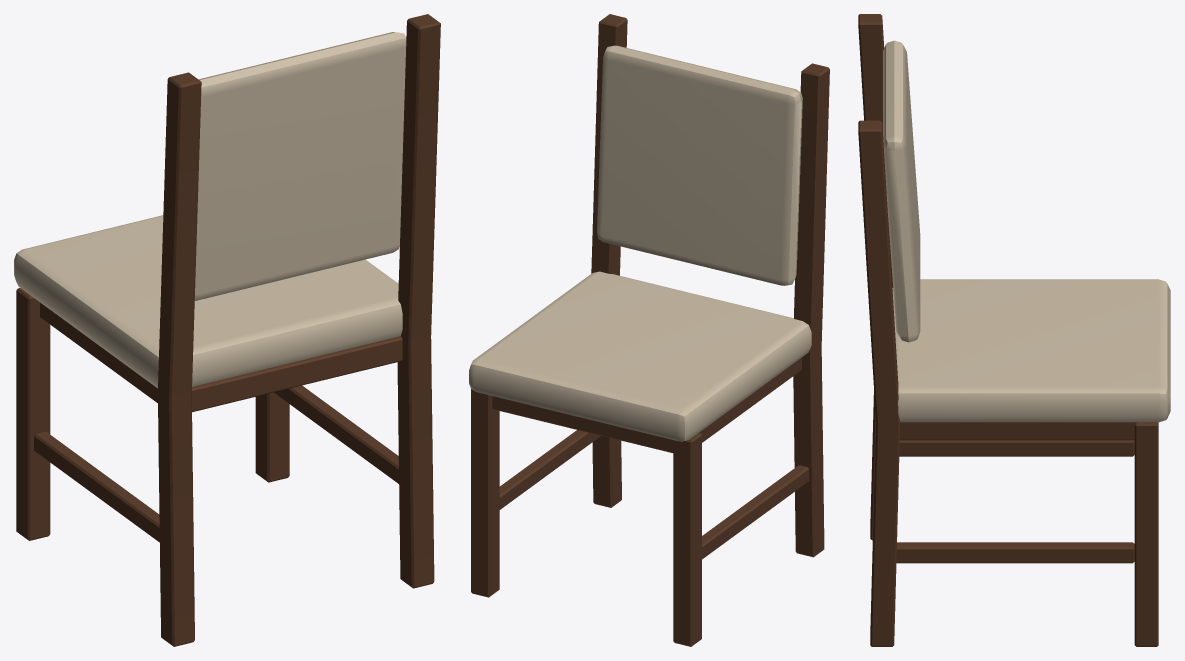
File: prop_chair_dining.glb
The picture shows the model from 3 angles, left to right: view 1: azimuth 30°, elevation 25°; view 2: azimuth 150°, elevation 25°; view 3: azimuth 270°, elevation 25°; orthographic projection. The views are drawn at different scales.
Visible parts, largest first — view 1: Chair; view 2: Chair; view 3: Chair.
Boxes of the visible parts, x1,y1,x2,y2 form: Chair: (14,14,440,646); Chair: (469,14,829,646); Chair: (858,14,1170,646).
Size of what is drawn, in the model's own units: 0.46 by 0.95 by 0.5198.
